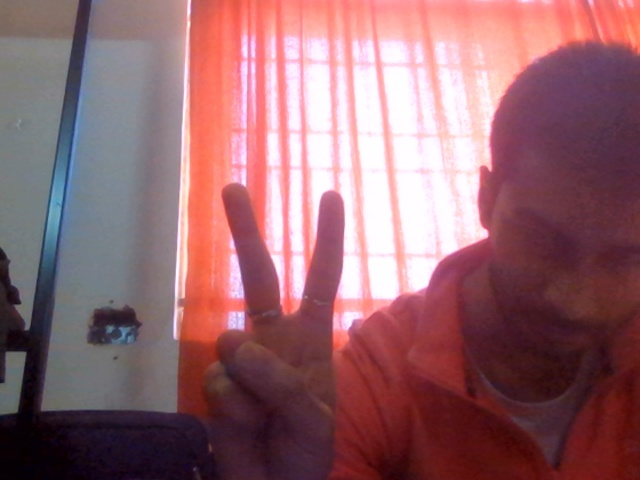V: (154, 143, 393, 480)
